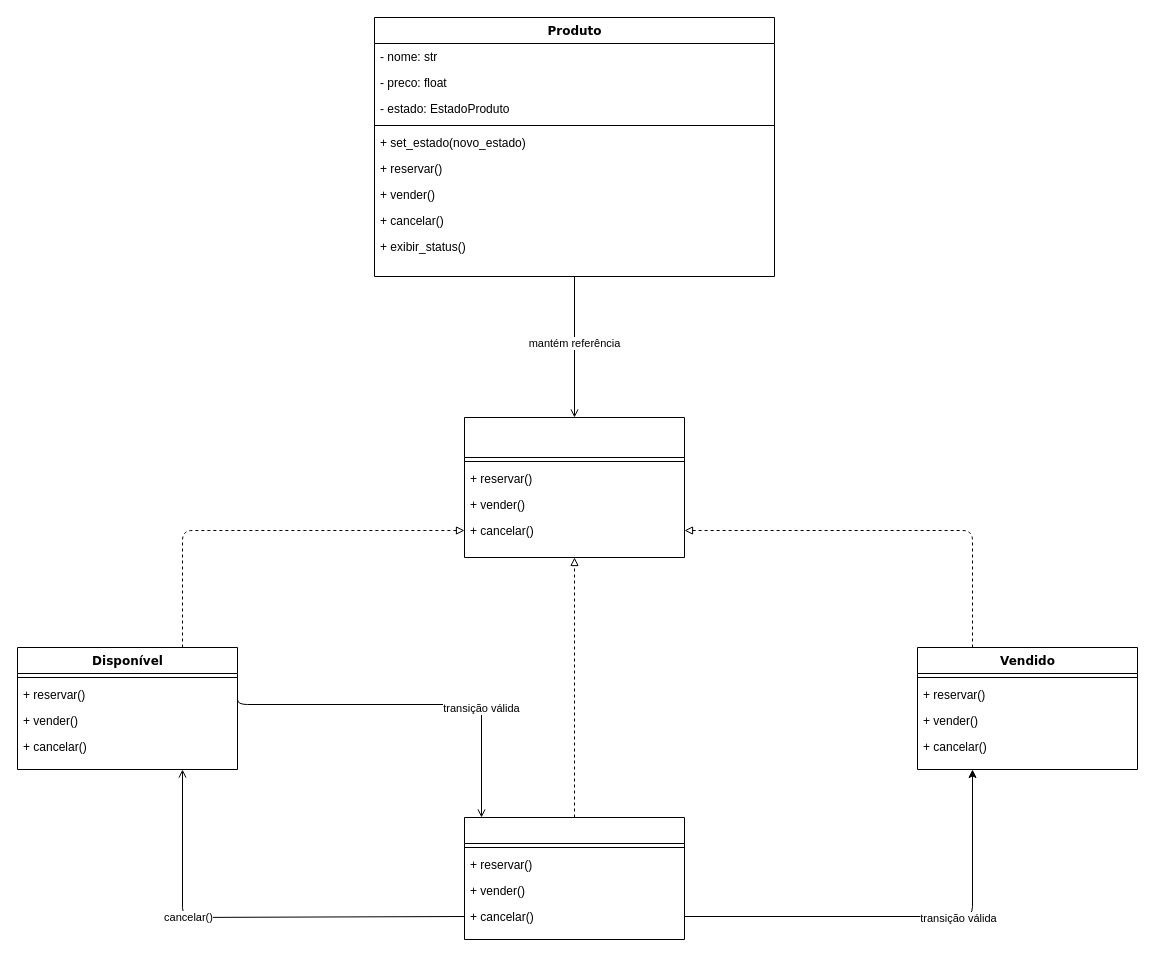
The diagram is 1155 pixels wide and 957 high, and some of its shapes have lost their labels. The shapes that lost their labels are listed below. From the top down, each one's box as (x1, y1, x2, y2) in pixels, then its label:
(464, 416, 684, 558): *interface* EstadoProduto
(464, 816, 684, 940): Reservado
